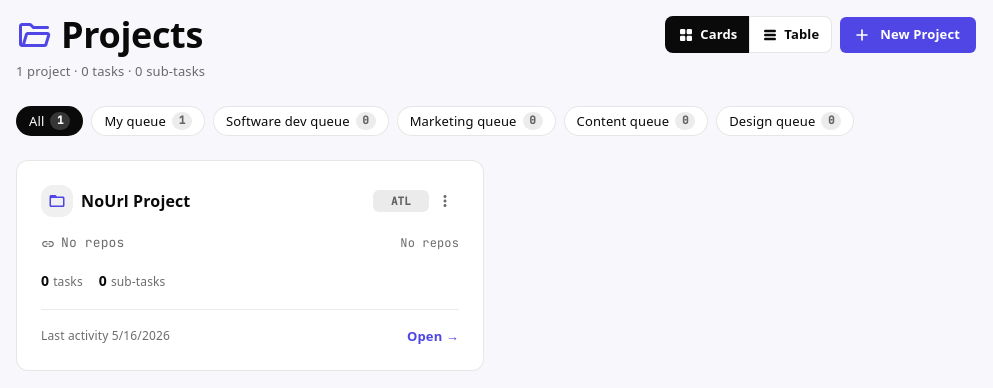
it: Projects page › project with no repos — says so on the card and in the table cell
Expected: the heading "NoUrl Project" is shown, [81,190,190,213]
Expected: the 1st text "No repos" is shown, [61,234,124,254]
# Switch to table view — the Repos cell falls back to an em-dash.
Click the button "Table" at (791,34), box [749,16,832,53]
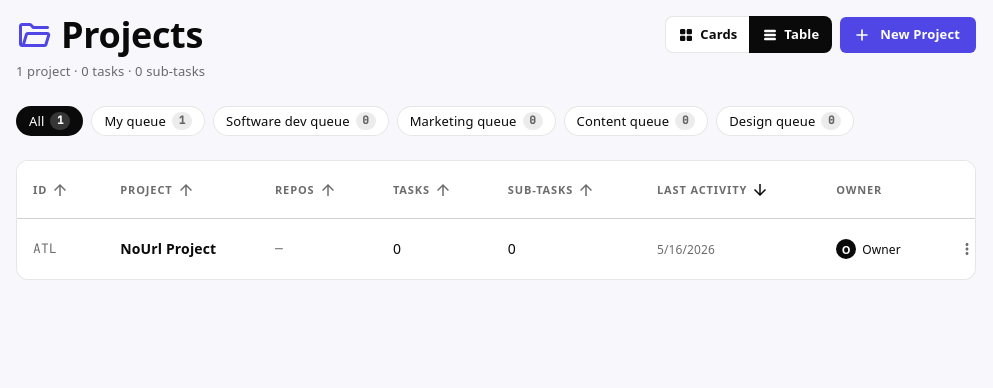
Expected: the link "NoUrl Project" is shown, [120,238,216,261]
Expected: the text "—" is shown, [259,219,377,280]
